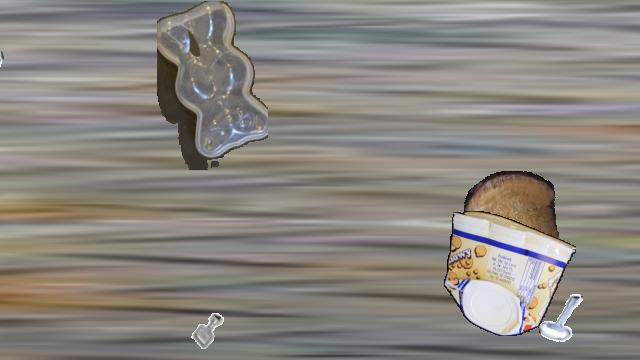metal: (538, 293, 590, 345), (183, 305, 233, 355), (0, 46, 35, 102), (635, 1, 640, 53)
plastic: (157, 1, 267, 169), (444, 211, 576, 335)
wood: (464, 171, 558, 275)
